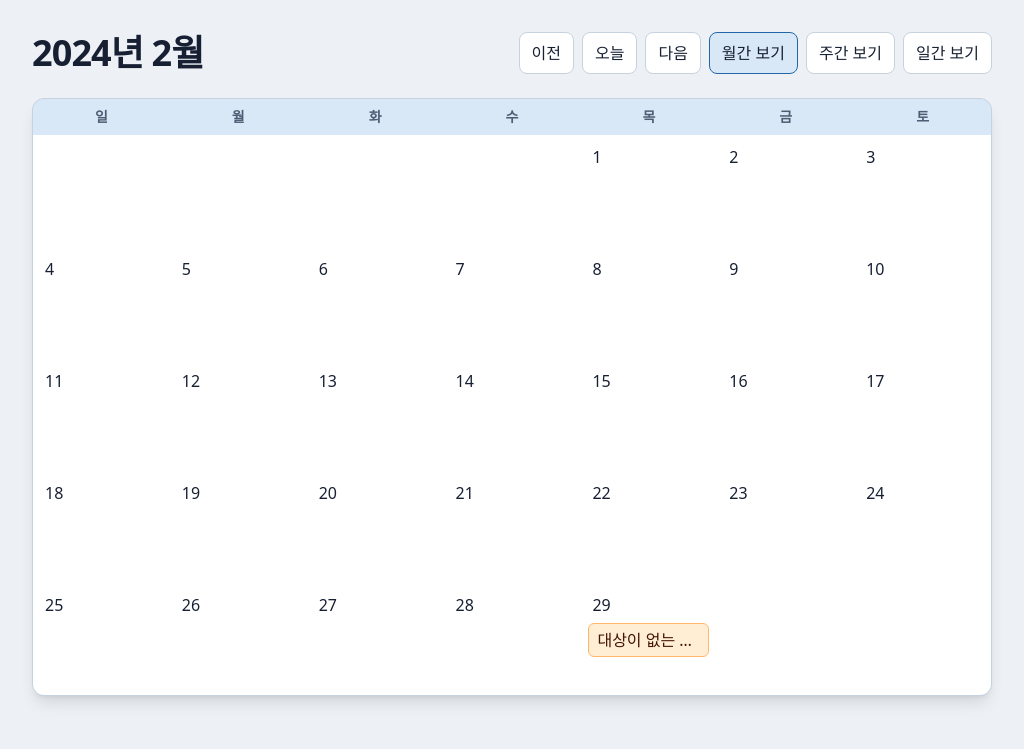
Scenario: ScheduleCalendar › announces the empty named target list to screen readers
Click the button "대상이 없는 팀 회의 · 팀".
click(649, 640)  # box left=588, top=623, right=709, bottom=657
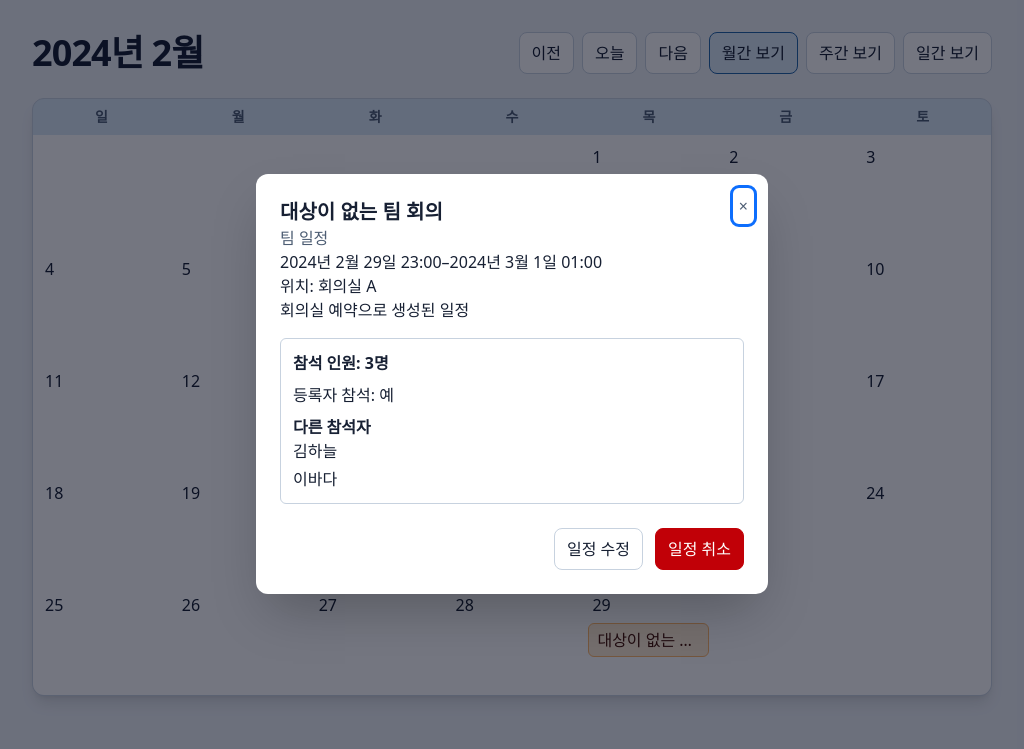
Click the button "일정 수정".
click(598, 549)  # box left=554, top=528, right=643, bottom=570
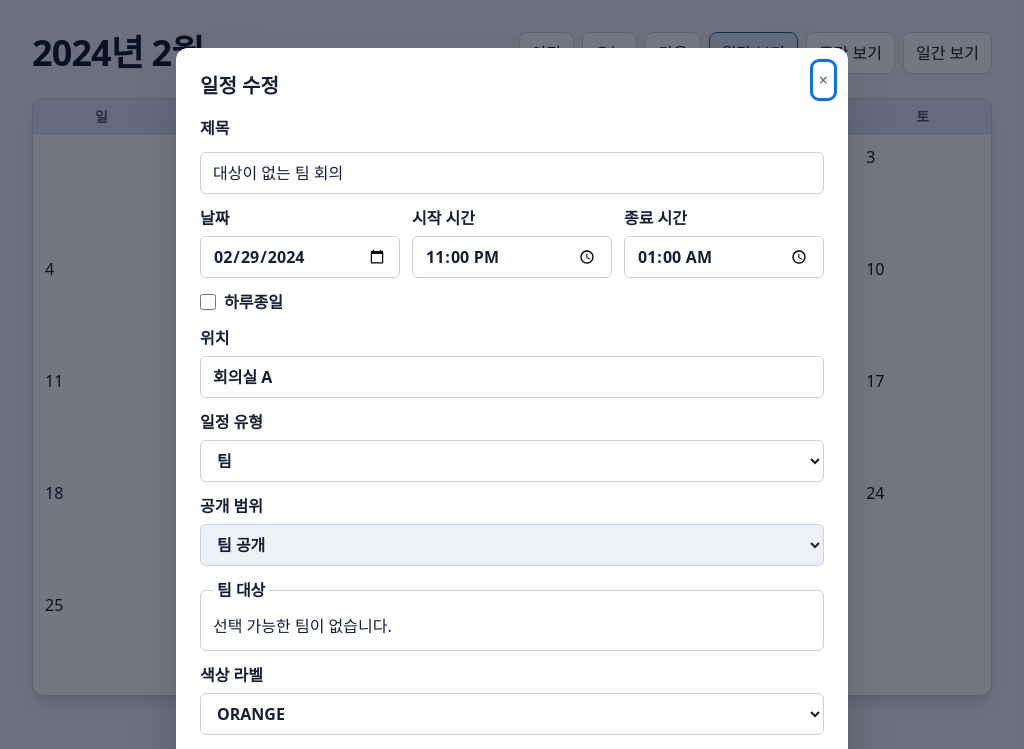
Now the message reads "선택 가능한 팀이 없습니다.", box left=213, top=615, right=392, bottom=637
